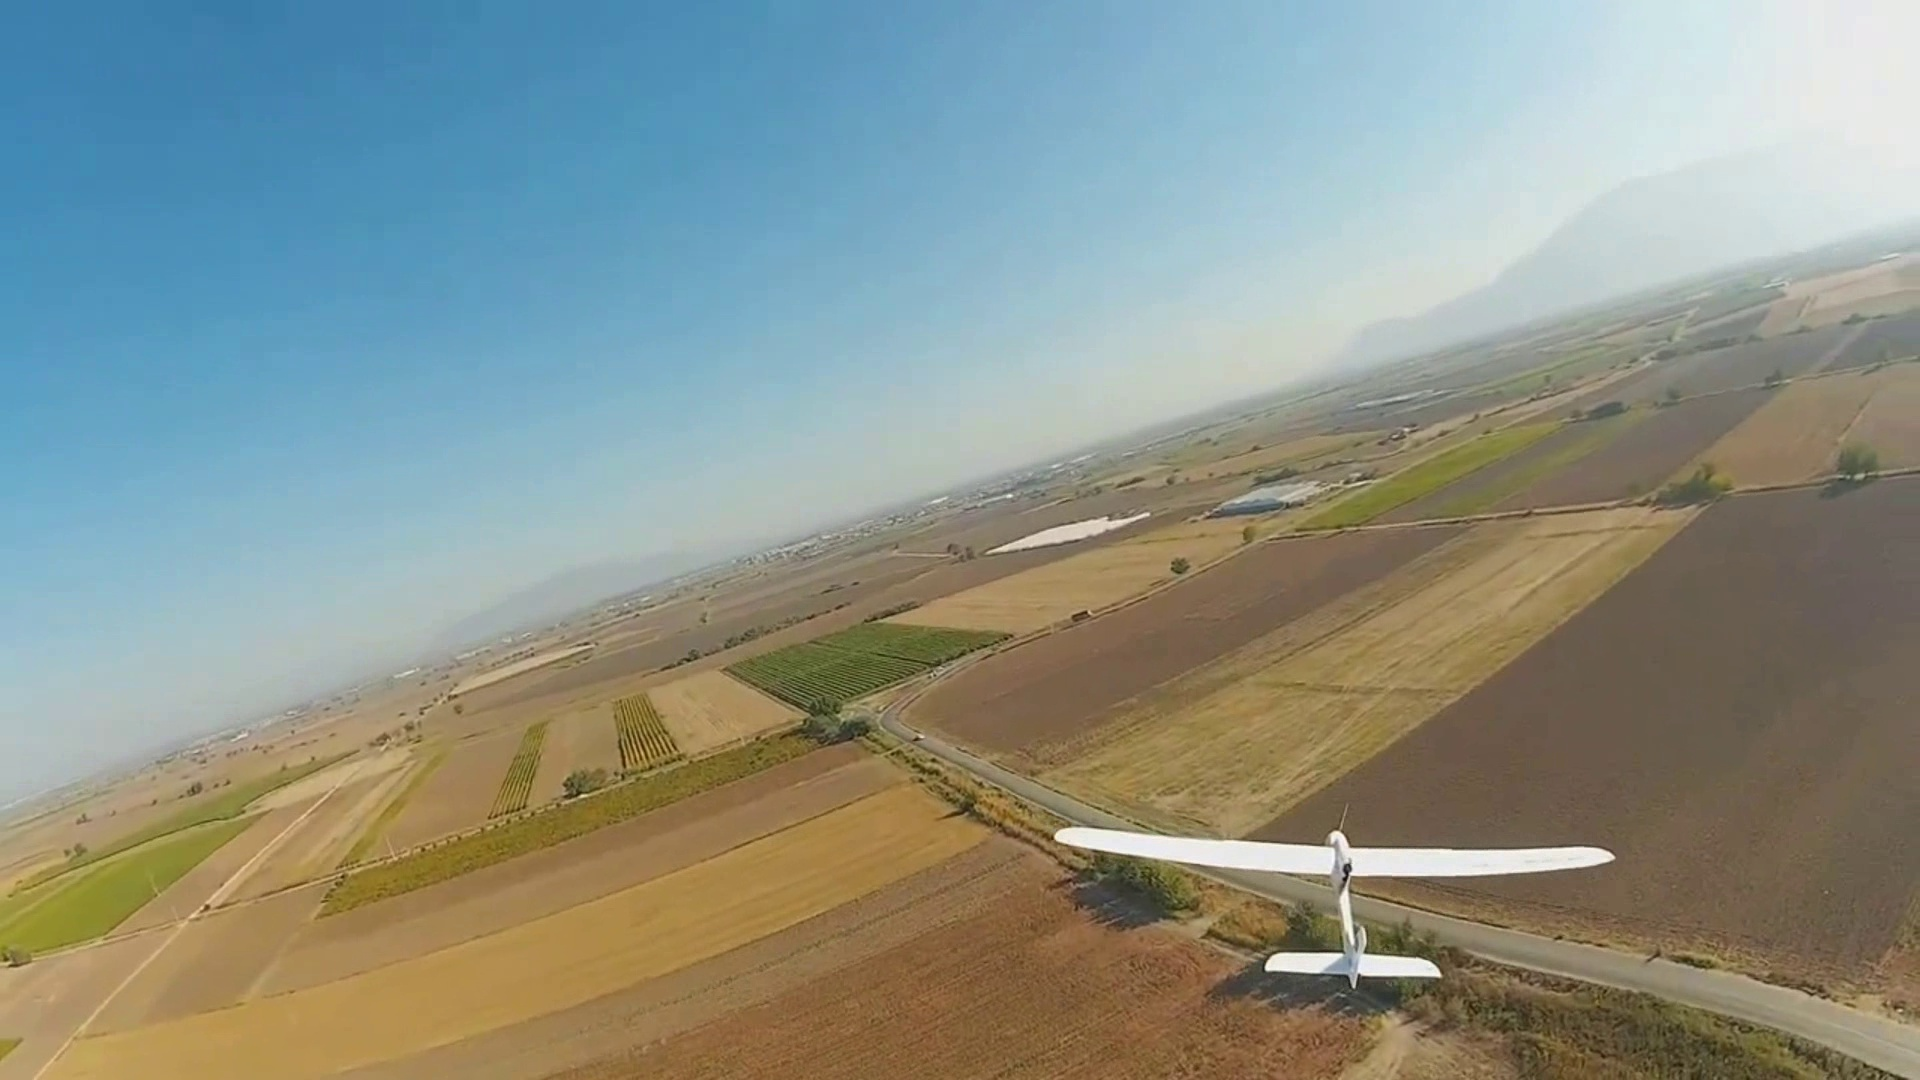airplane: (836, 709, 1614, 992)
